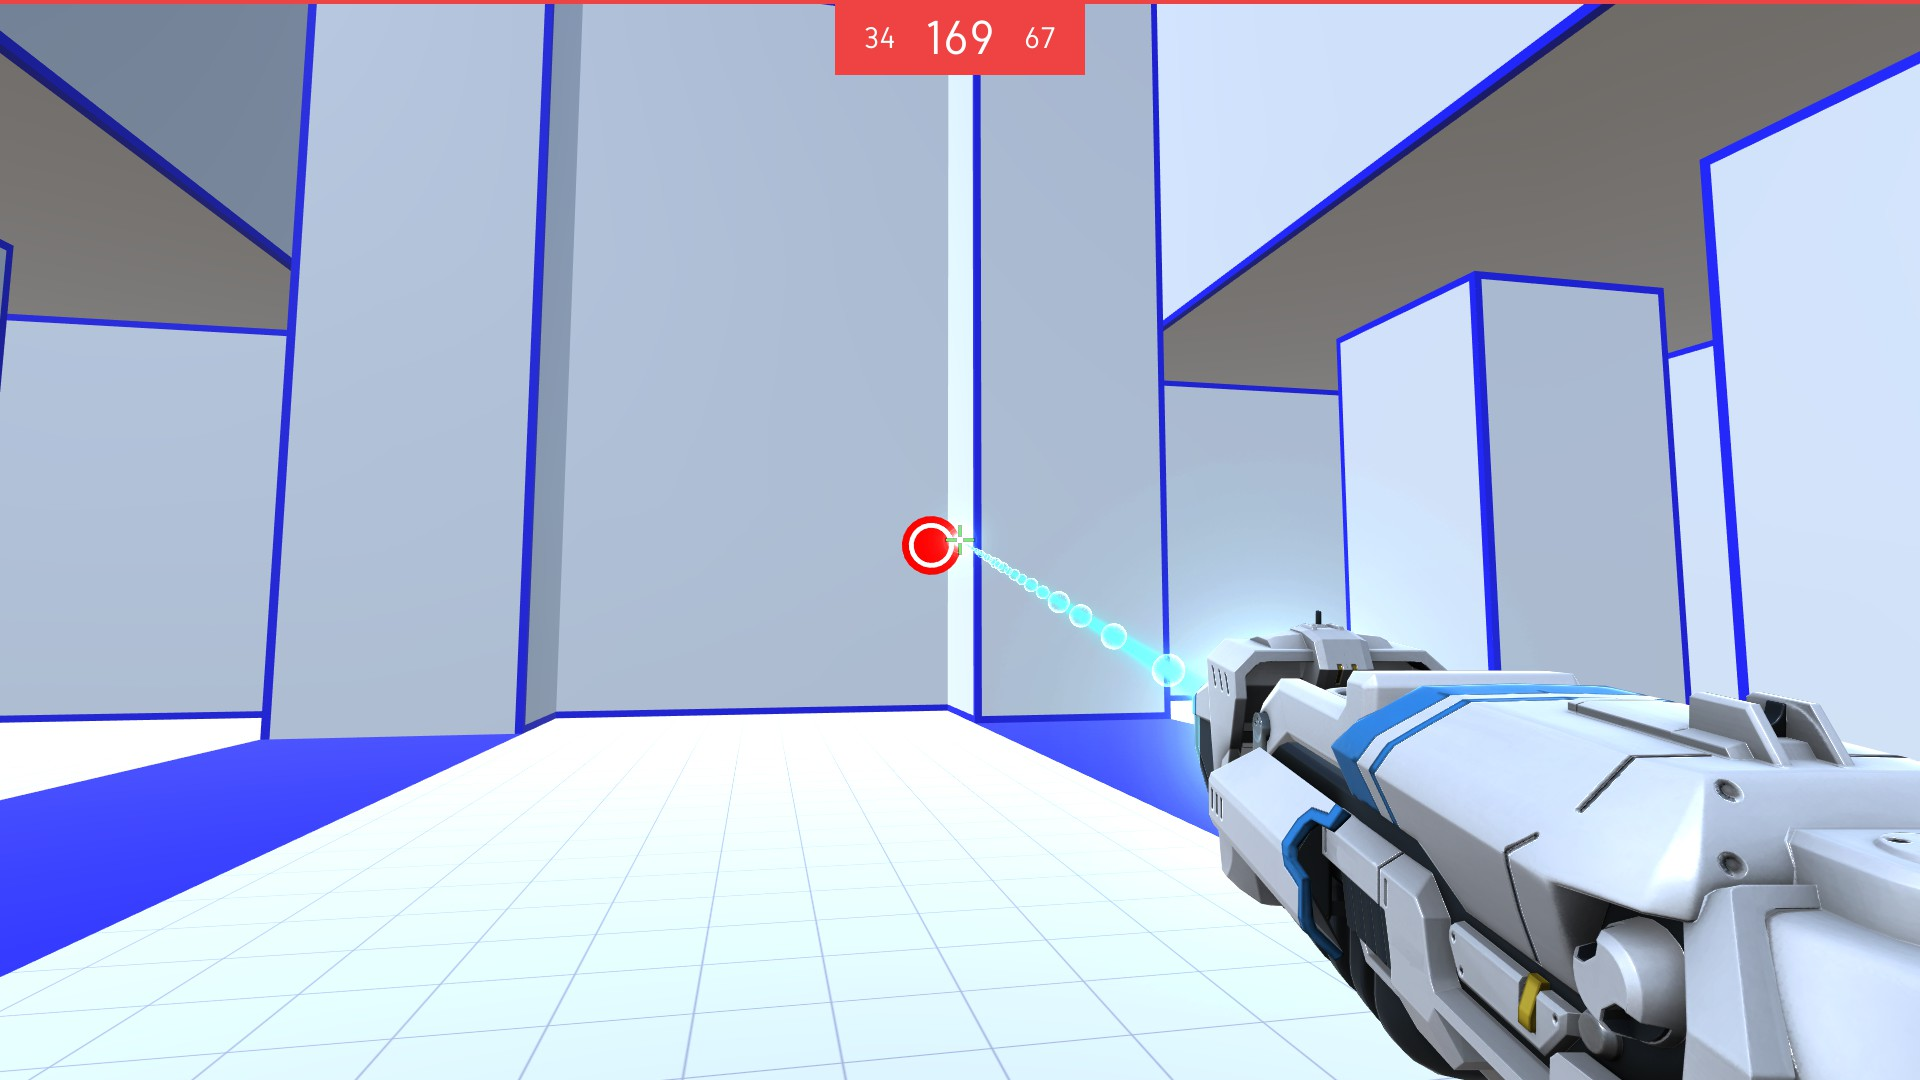target: (898, 514, 969, 580)
